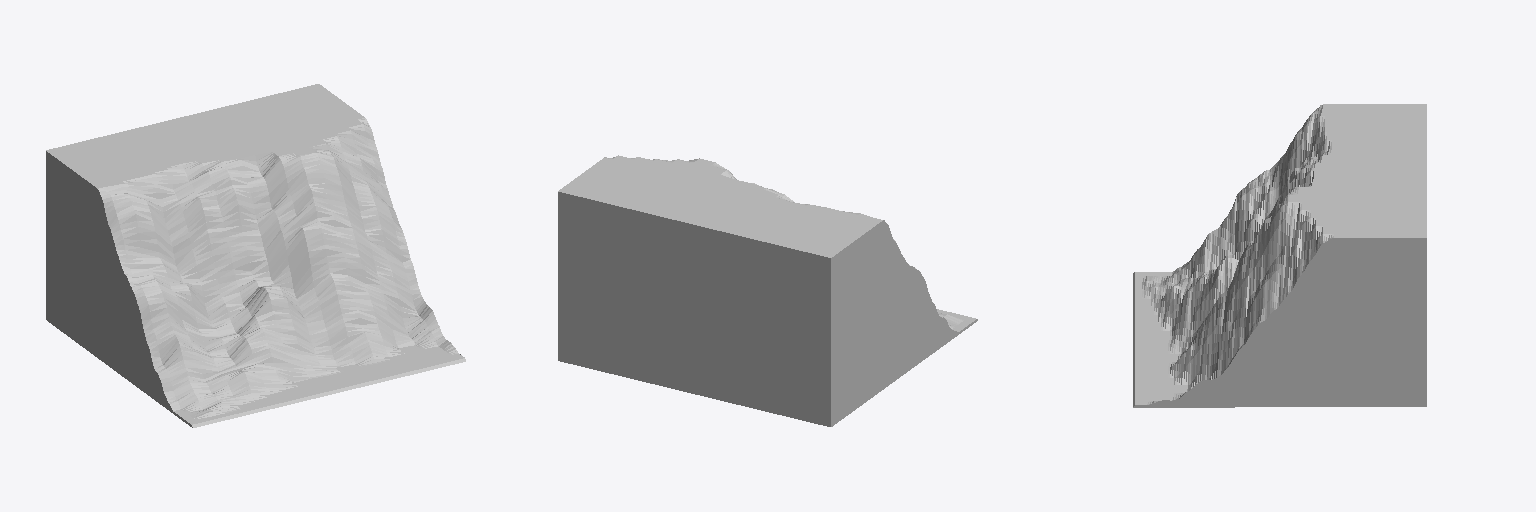
File: F4Clliff.obj
3 views of the same model, side by side, from view 1: azimuth 30°, elevation 25°; view 2: azimuth 150°, elevation 25°; view 3: azimuth 270°, elevation 25° (orthographic).
Parts seen in each view (by area): view 1: Cliff_Segment_10_Landscape.011; view 2: Cliff_Segment_10_Landscape.011; view 3: Cliff_Segment_10_Landscape.011.
Part boxes in pixels (x1,y1,x2,y2): Cliff_Segment_10_Landscape.011: (46,84,465,427); Cliff_Segment_10_Landscape.011: (558,155,977,426); Cliff_Segment_10_Landscape.011: (1133,104,1426,407).
Bounding box in the file's own units: 2.14 × 1.27 × 2.